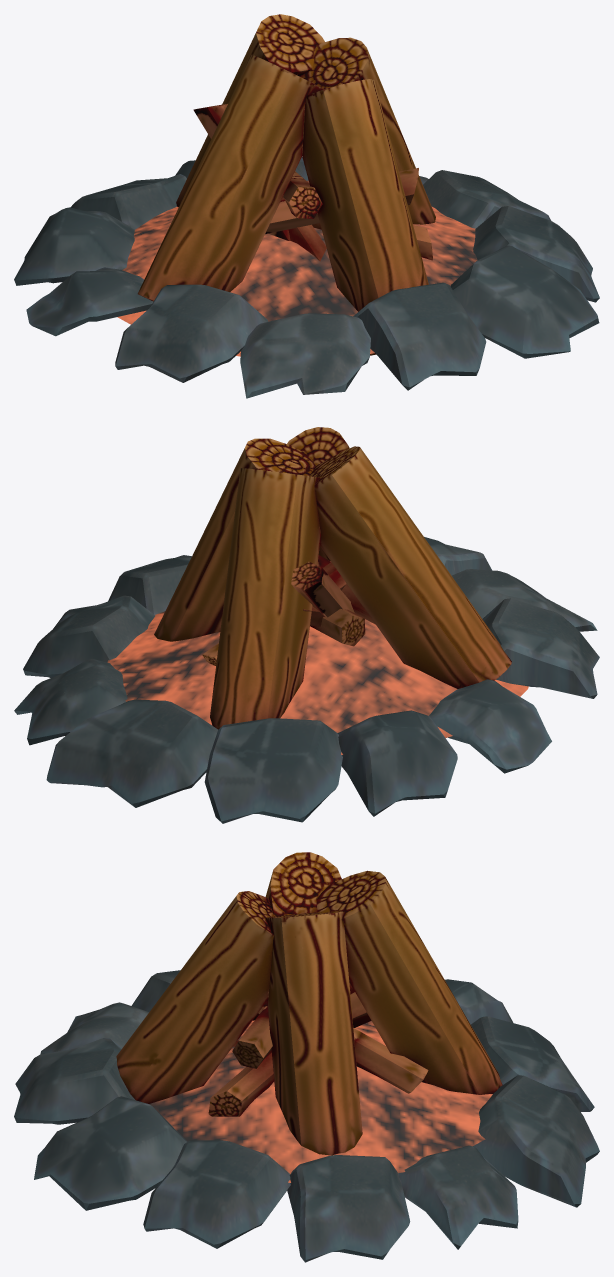
Rendered from Hoguera.glb.
3 views of the same model, one above another, from view 1: azimuth 30°, elevation 25°; view 2: azimuth 150°, elevation 25°; view 3: azimuth 270°, elevation 25° (orthographic).
Visible parts, largest first — view 1: palo1_4; view 2: palo1_4; view 3: palo1_4.
Part boxes in pixels (x1=…): palo1_4: x1=14, y1=14, x2=599, y2=398; palo1_4: x1=14, y1=427, x2=599, y2=823; palo1_4: x1=14, y1=852, x2=599, y2=1262.
Size of the model in its own units: 6.42 by 3.29 by 6.42.
1 material, 1 textured.
